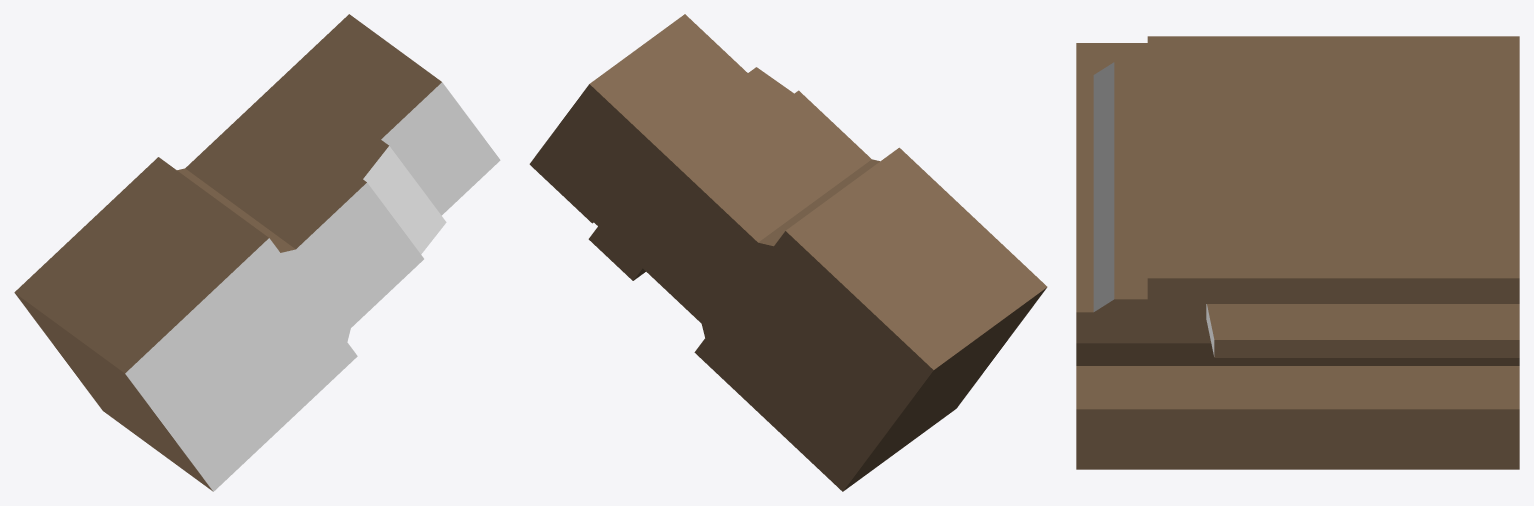
3 views of the same model, side by side, from view 1: azimuth 30°, elevation 25°; view 2: azimuth 150°, elevation 25°; view 3: azimuth 270°, elevation 25° (orthographic). The views are drawn at different scales.
Parts seen in each view (by area): view 1: City_1885302; view 2: City_1885302; view 3: City_1885302.
Part boxes in pixels (x1,y1,x2,y2): City_1885302: (14, 14, 500, 491); City_1885302: (529, 14, 1047, 491); City_1885302: (1076, 36, 1519, 469).
Bounding box in the file's own units: 2795 × 2286 × 1363.
